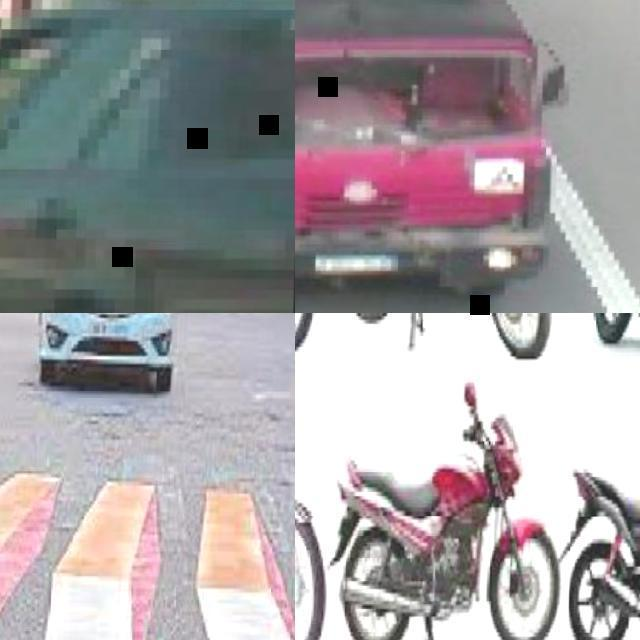car: (38, 314, 177, 395)
